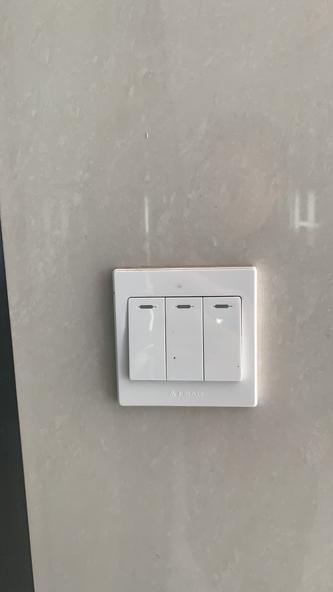switch: (197, 291, 247, 386), (160, 293, 205, 385), (124, 292, 168, 384)
